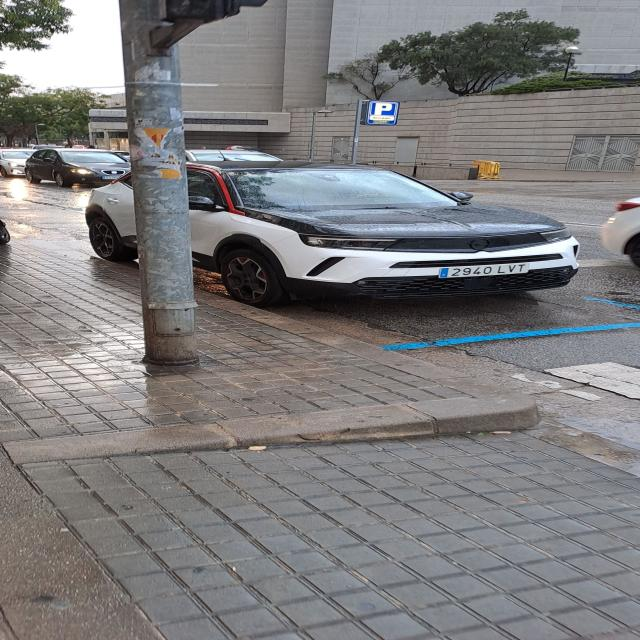license_plate-34Td: (438, 263, 529, 279)
